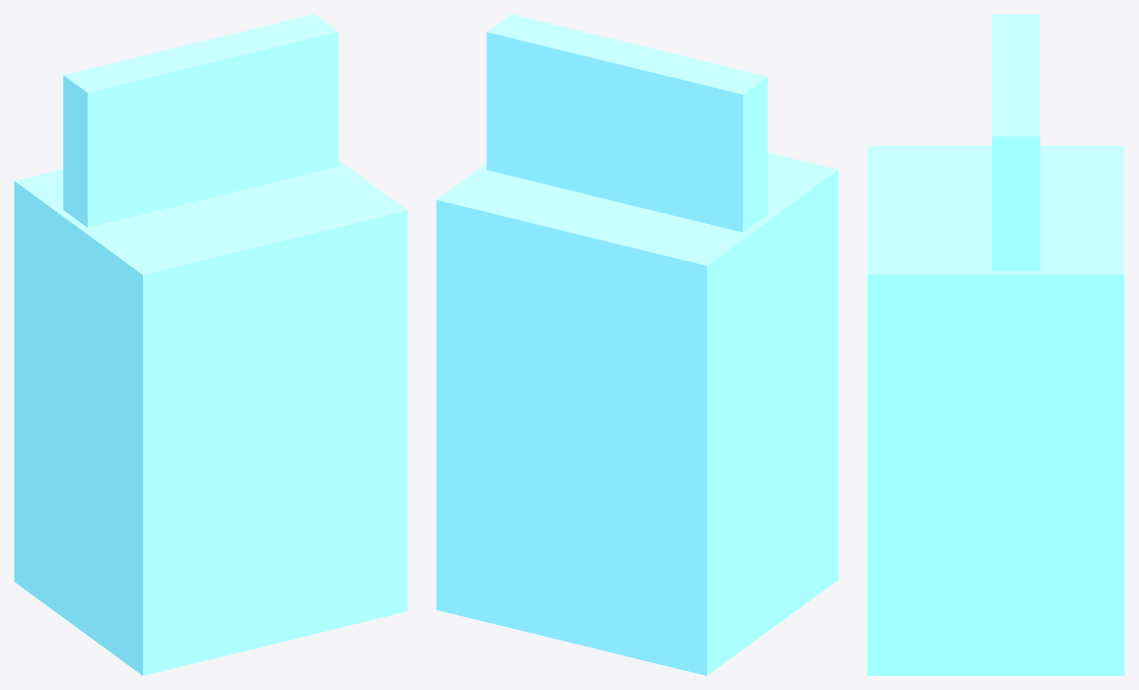
File: prop_terminal.gltf
The picture shows the model from 3 angles, left to right: view 1: azimuth 30°, elevation 25°; view 2: azimuth 150°, elevation 25°; view 3: azimuth 270°, elevation 25°; orthographic projection. The views are drawn at different scales.
Visible parts, largest first — view 1: prop_terminal; view 2: prop_terminal; view 3: prop_terminal.
Boxes of the visible parts, <box> form: prop_terminal: <box>14,14,407,675</box>; prop_terminal: <box>436,14,838,675</box>; prop_terminal: <box>867,14,1124,675</box>.
Bounding box in the file's own units: 0.76 × 1.47 × 0.64.
